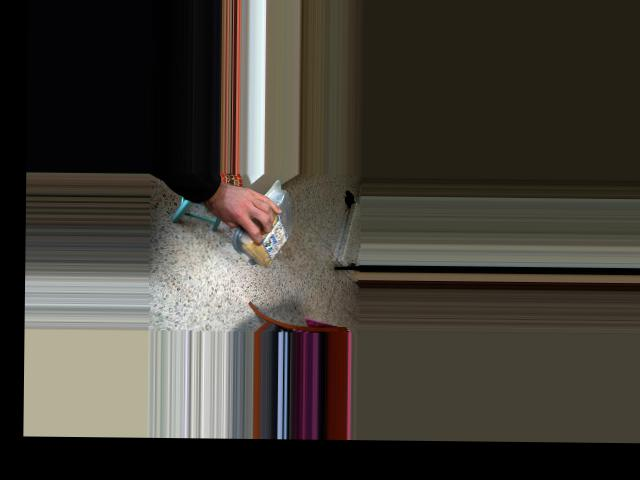cheese: (246, 184, 286, 276)
